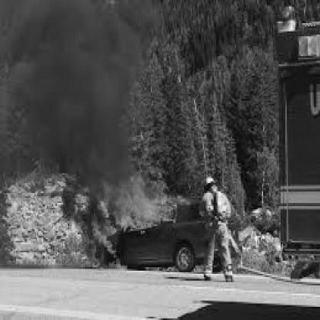Smoke: (2, 0, 142, 167)
